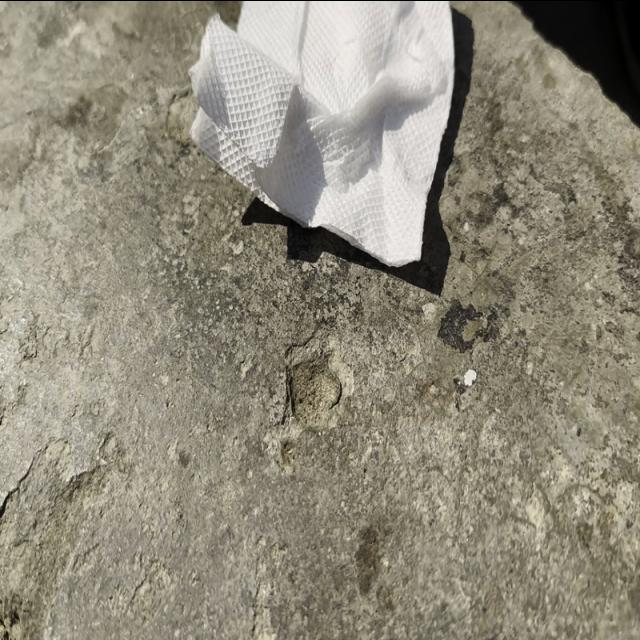tissue: (187, 0, 454, 276)
